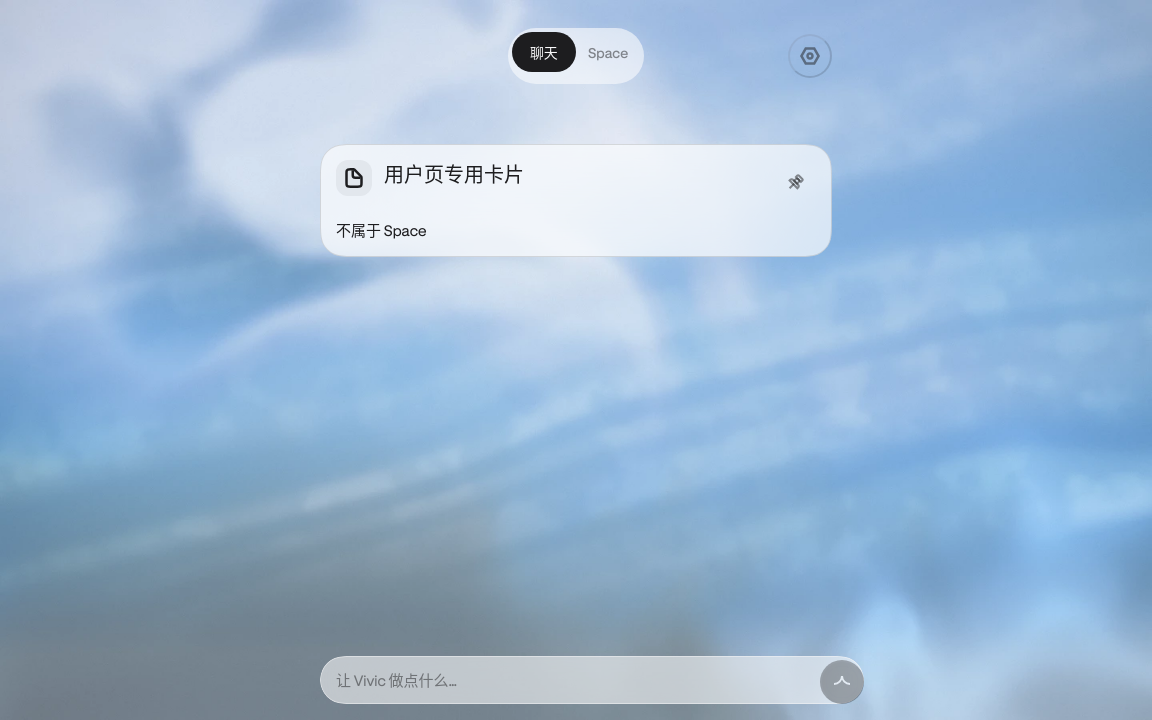
Test: mobile execution feedback › renders actual Space card content and an explicit partial-sync notice, excluding user-page cards
Click the tab "Space" at (608, 52), box [576, 32, 640, 72]
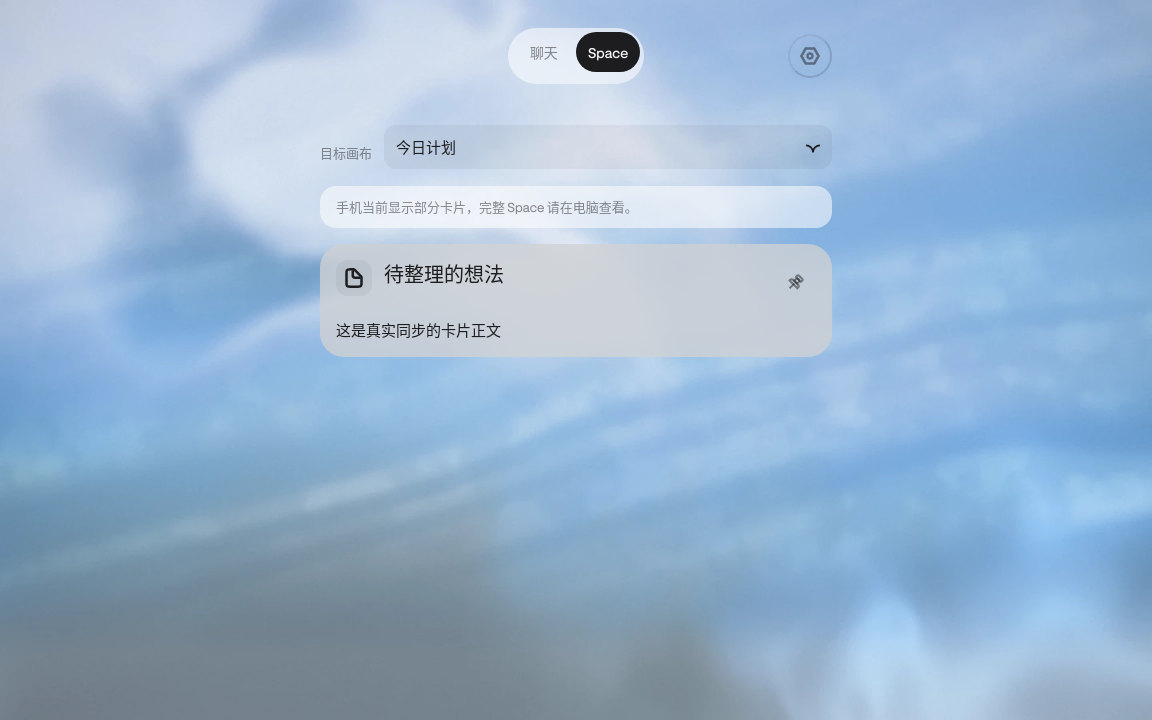
Check: the panel with id "mobile-space" shows "这是真实同步的卡片正文", box [336, 321, 501, 339]
Check: the panel with id "mobile-space" shows "手机当前显示部分卡片", box [336, 199, 638, 214]
Check: the heading with id "mobile-space" no longer shows "用户页专用卡片"
